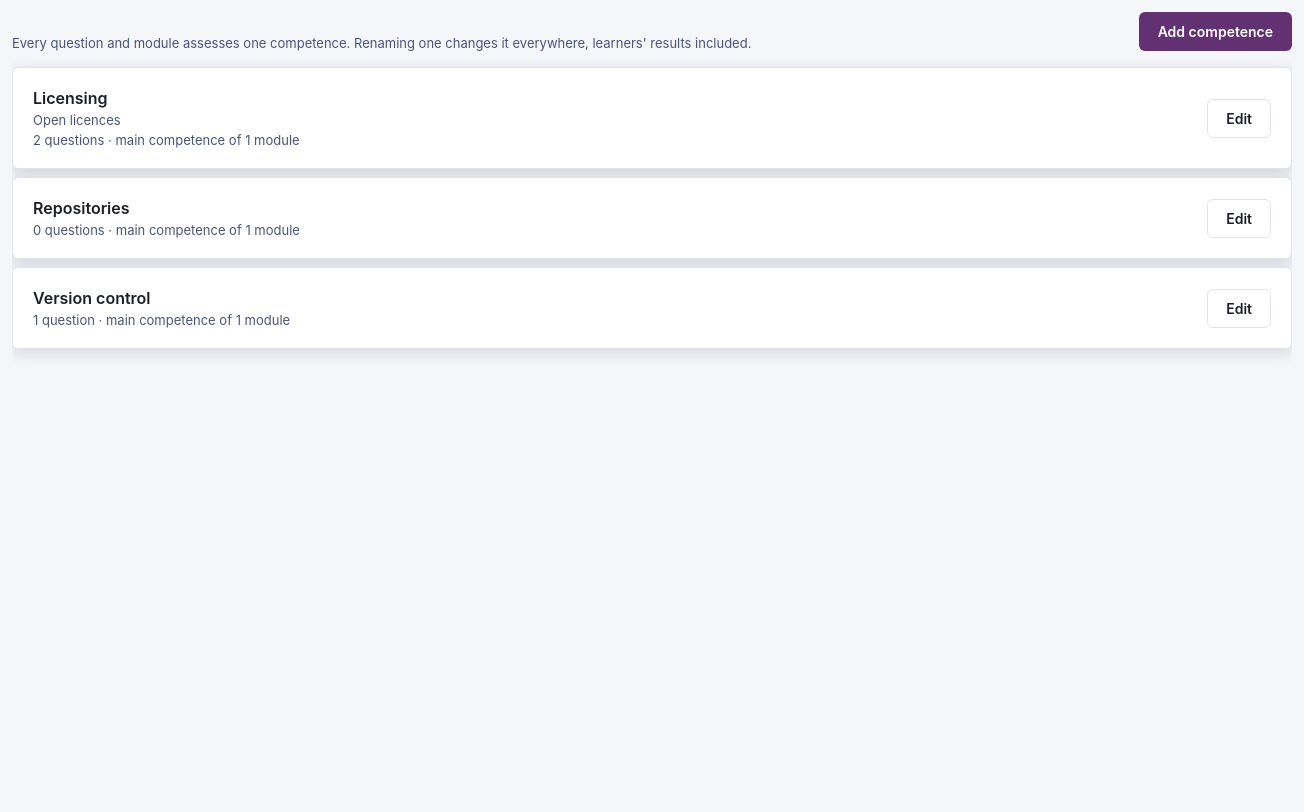
CompetencesPanel › shows a general error for other failures
Click the button with aria-label "Edit Repositories" at [1239, 218], box [1207,198,1271,238]
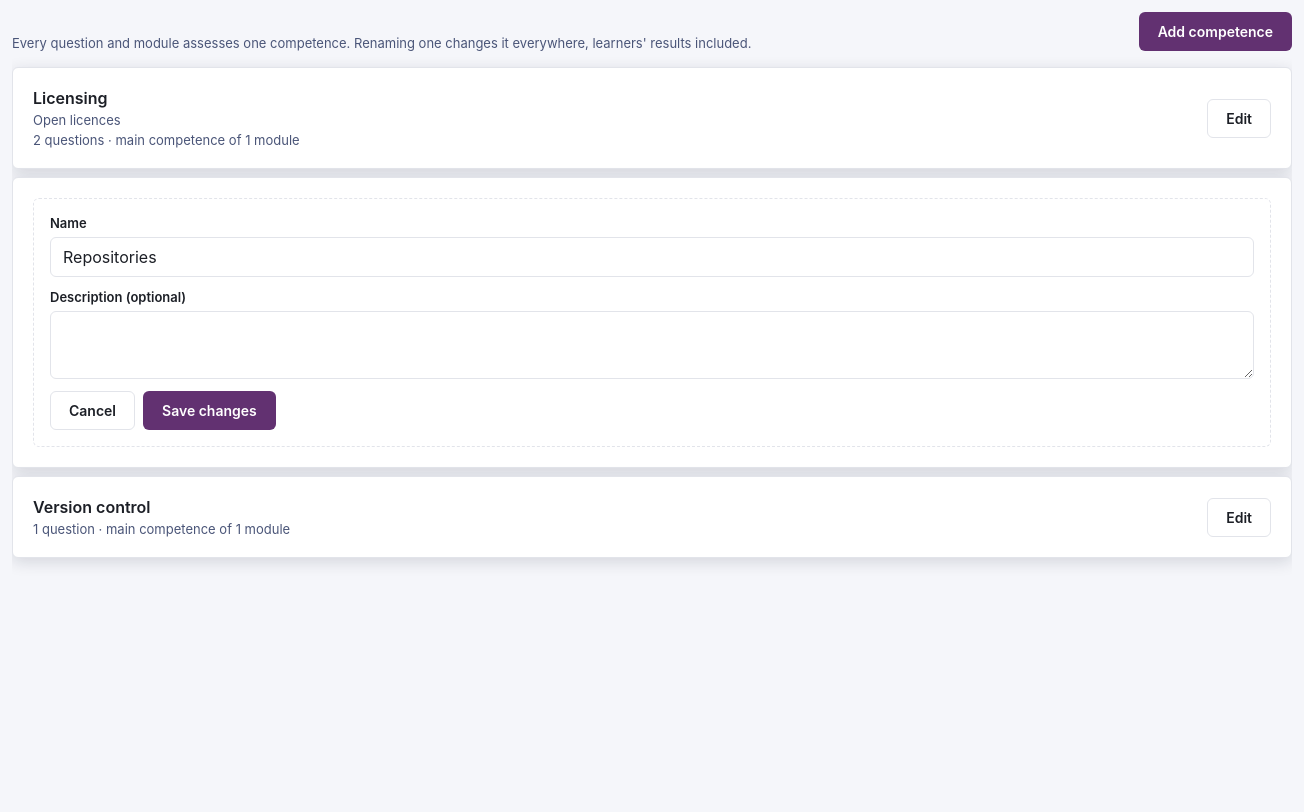
Click the button "Save changes" at [209, 410], box [143,391,276,430]
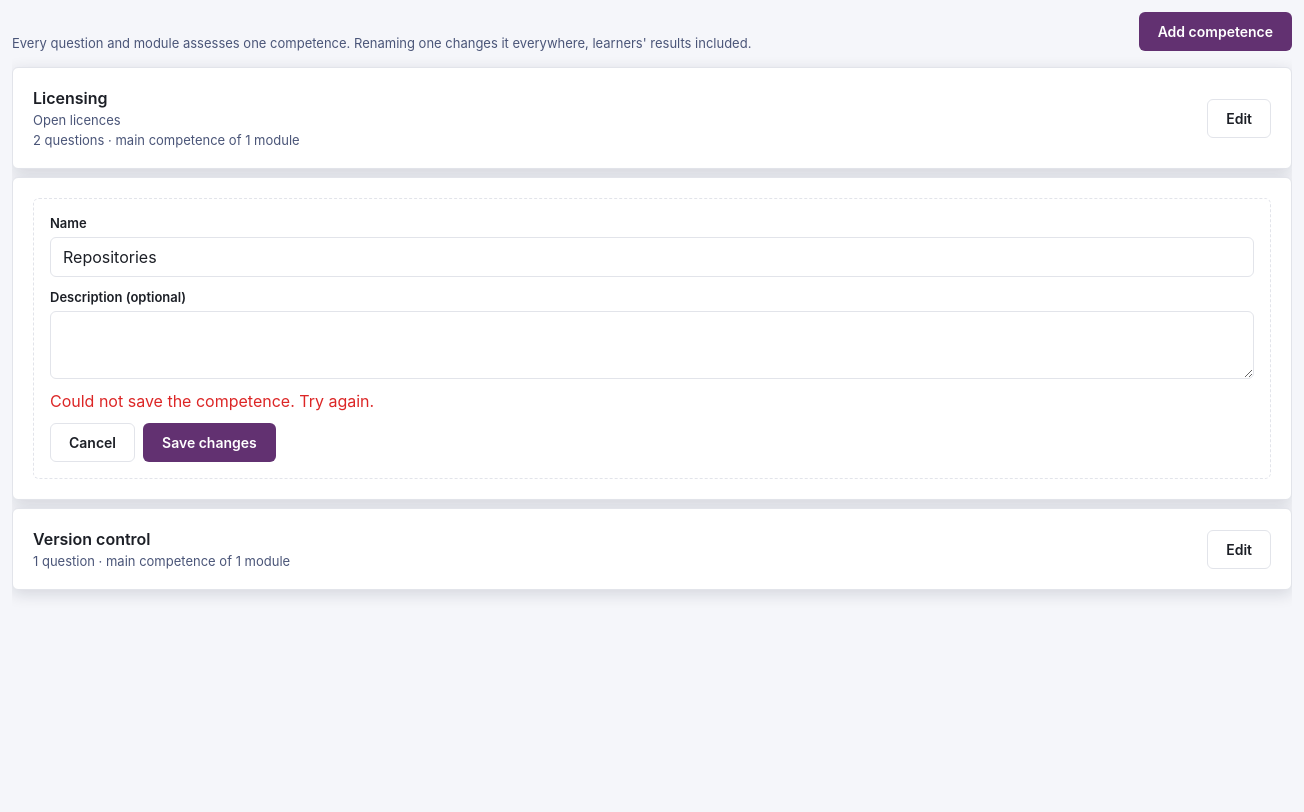
Now the message shows "Could not save the competence", box [50,391,374,411]
